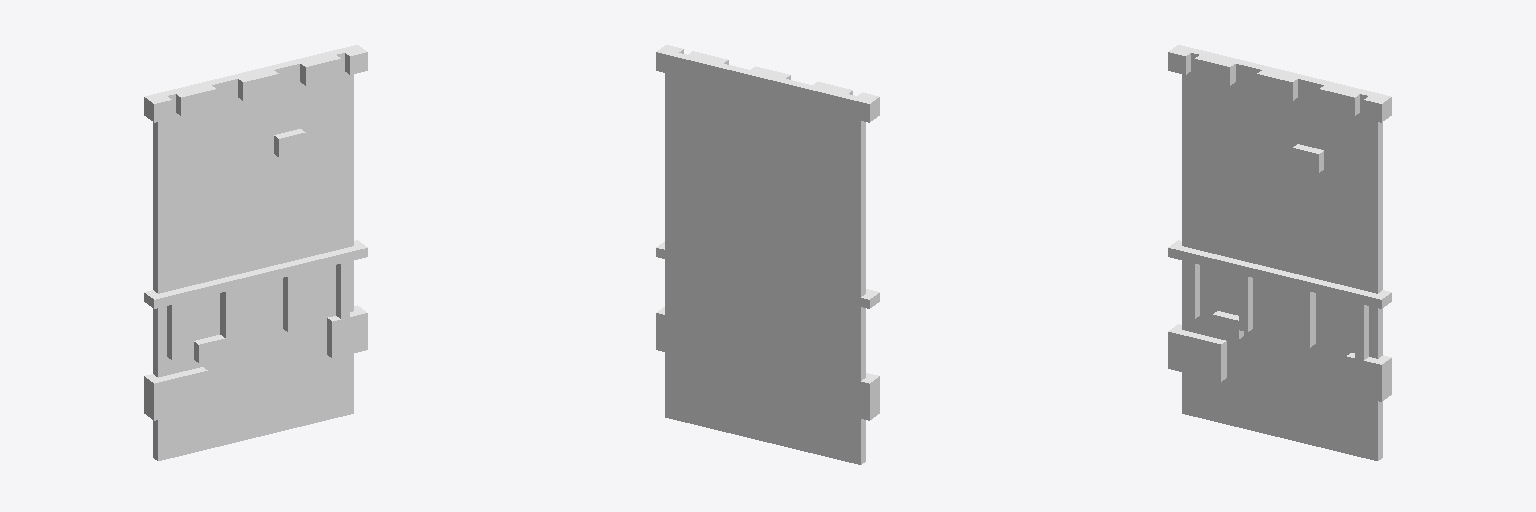
The model's file is SmallBuilding01-1.obj.
The picture shows the model from 3 angles: view 1: azimuth 30°, elevation 25°; view 2: azimuth 150°, elevation 25°; view 3: azimuth 330°, elevation 25°; orthographic projection.
Parts seen in each view (by area): view 1: object 1; view 2: object 1; view 3: object 1.
Boxes of the visible parts, <box> form: object 1: <box>144,45,367,460</box>; object 1: <box>656,45,879,464</box>; object 1: <box>1168,45,1391,460</box>.
Bounding box in the file's own units: 2.4 × 3.9 × 0.2.